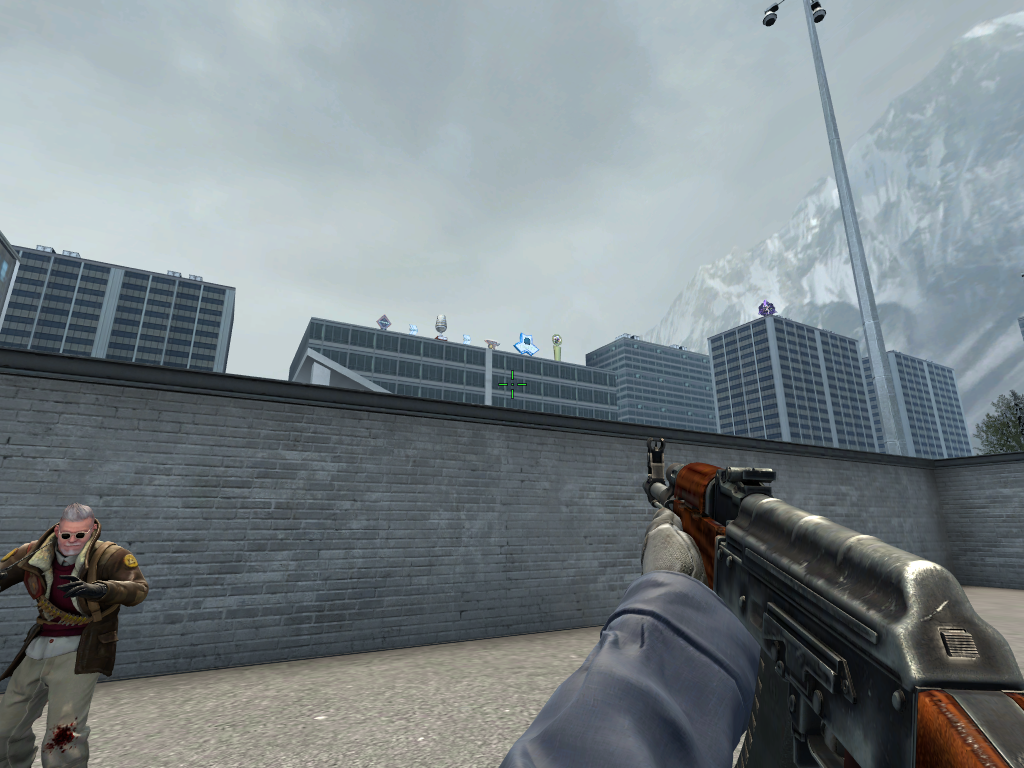tr head: (58, 510, 92, 554)
